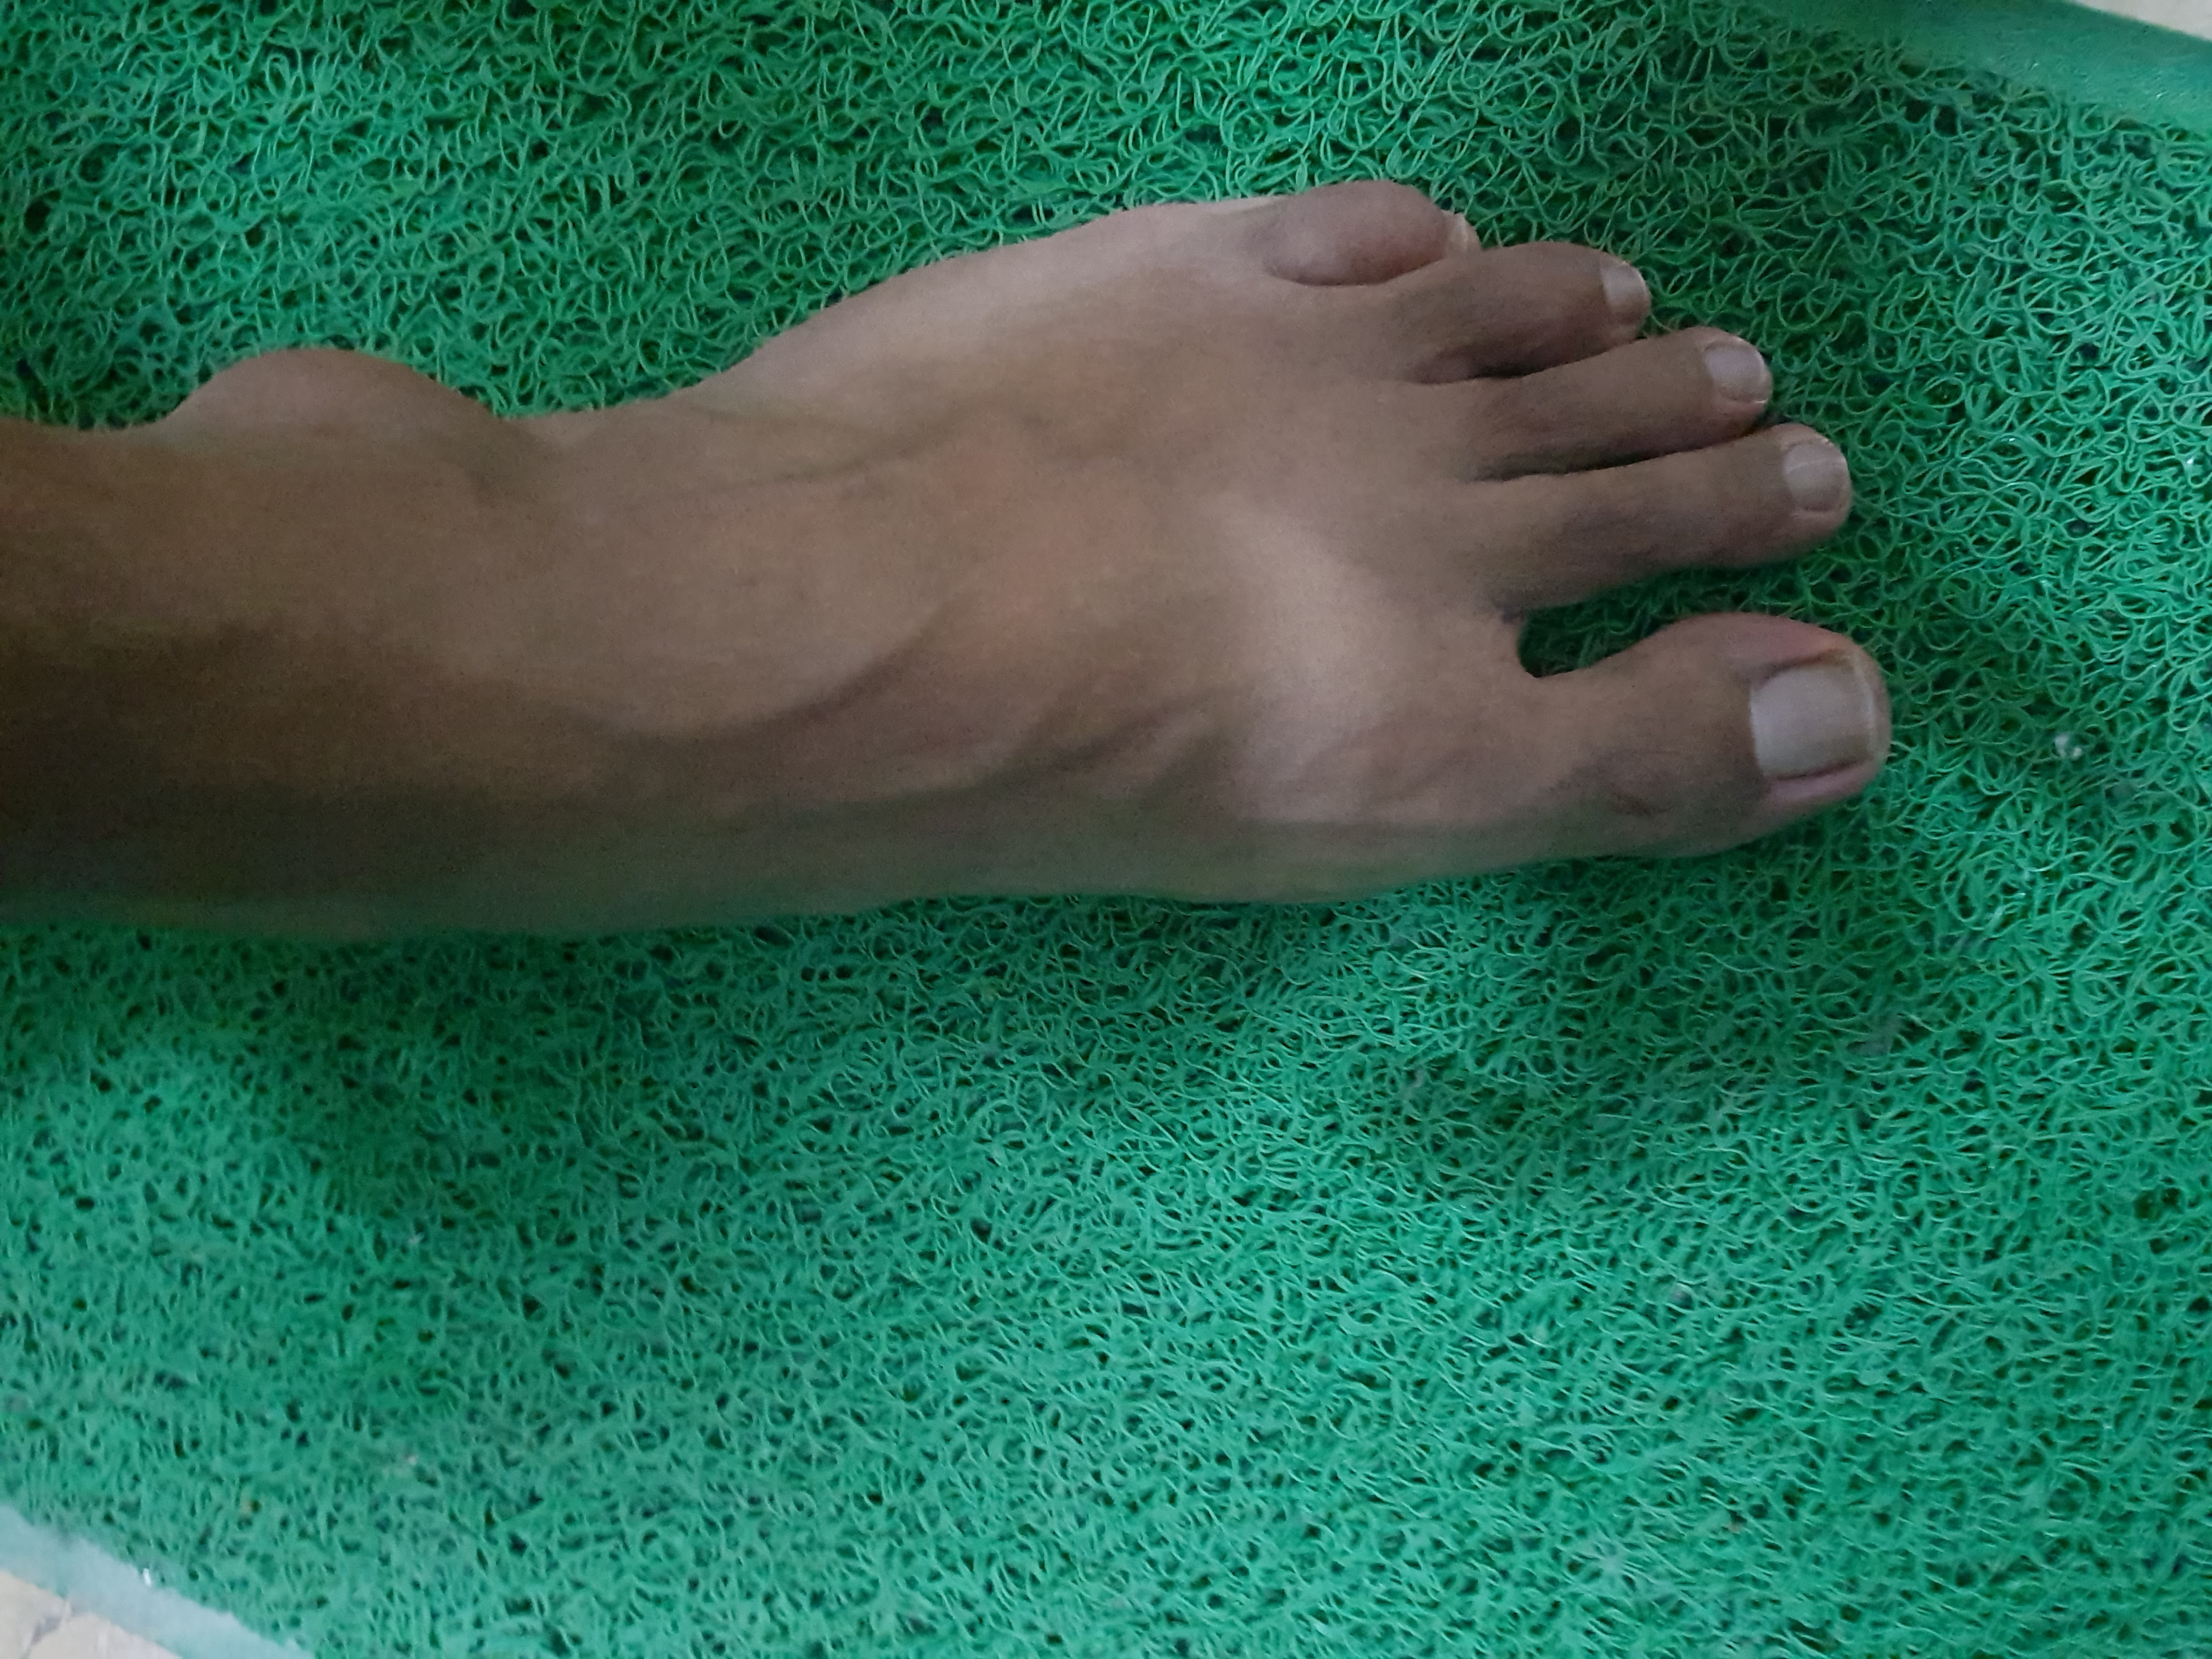feet: (37, 73, 1914, 971)
